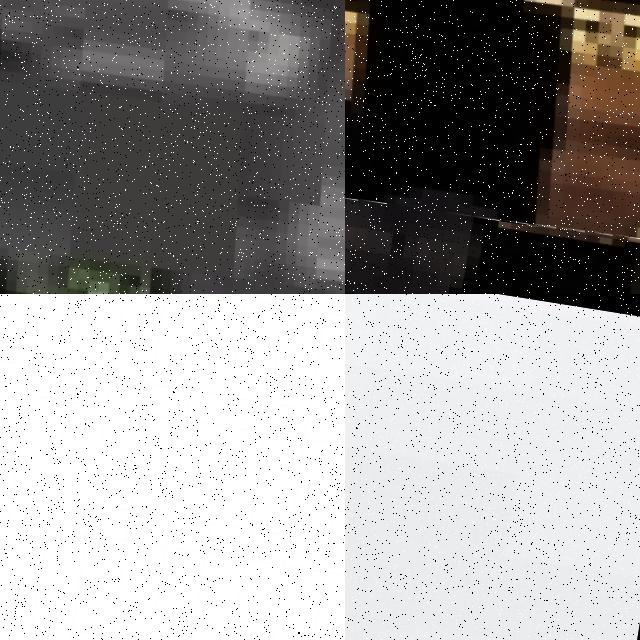0: (0, 0, 345, 294)
drone: (345, 0, 640, 275)
